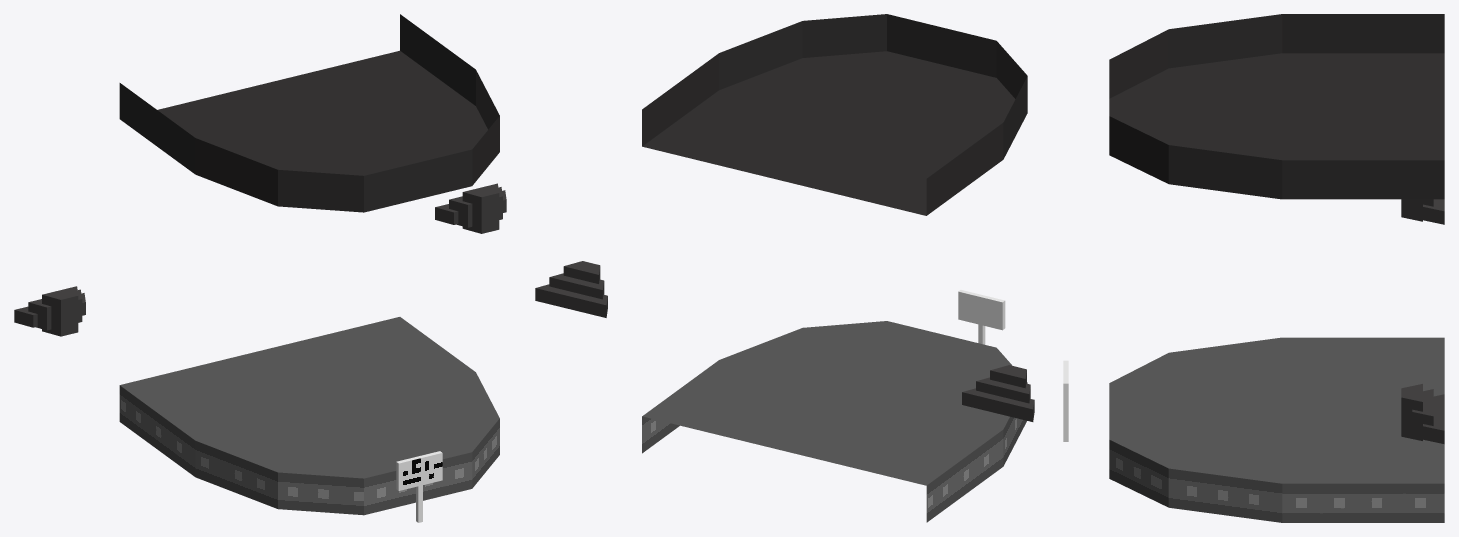
The model's file is piratescove.gltf.
The picture shows the model from 3 angles, left to right: view 1: azimuth 30°, elevation 25°; view 2: azimuth 150°, elevation 25°; view 3: azimuth 270°, elevation 25°; orthographic projection. The views are drawn at different scales.
Parts seen in each view (by area): view 1: piratescovestage, piratescovertop, piratescovelight, piratescovesign; view 2: piratescovertop, piratescovestage, piratescovelight, piratescovesign; view 3: piratescovertop, piratescovestage, piratescovelight, piratescovesign.
Part boxes in pixels (left/top/right/bottom): piratescovestage: left=119, top=317, right=499, bottom=515; piratescovertop: left=119, top=14, right=499, bottom=212; piratescovelight: left=14, top=183, right=506, bottom=336; piratescovesign: left=396, top=451, right=442, bottom=522; piratescovertop: left=642, top=14, right=1027, bottom=215; piratescovestage: left=642, top=321, right=1027, bottom=522; piratescovelight: left=535, top=261, right=1034, bottom=421; piratescovesign: left=958, top=290, right=1005, bottom=344; piratescovertop: left=1109, top=14, right=1444, bottom=199; piratescovestage: left=1109, top=337, right=1444, bottom=522; piratescovelight: left=1401, top=199, right=1444, bottom=444; piratescovesign: left=1063, top=360, right=1068, bottom=441.
Size of the model in its own units: 7 by 4.62 by 4.41.
Materials: 4 (4 with a texture image).
